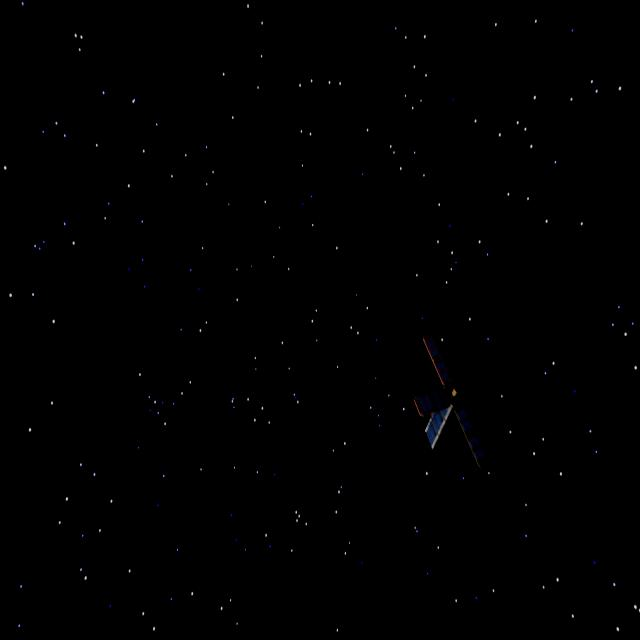satellite: (410, 326, 494, 476)
